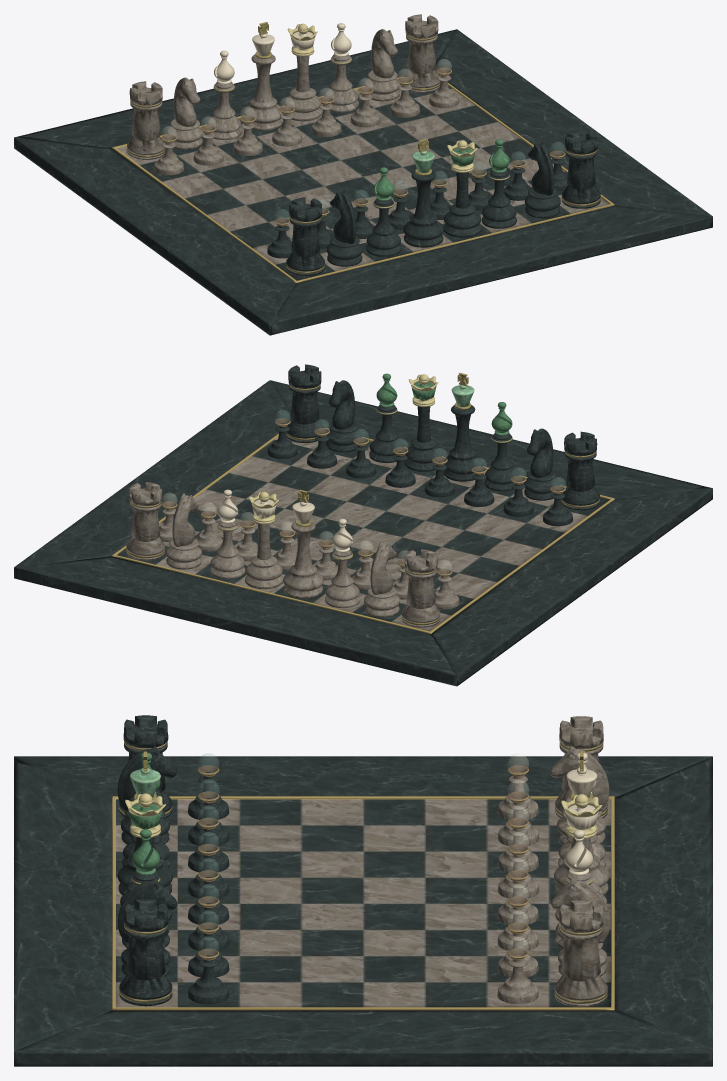
Rendered from chess-set.glb.
The picture shows the model from 3 angles, top to bottom: view 1: azimuth 30°, elevation 25°; view 2: azimuth 150°, elevation 25°; view 3: azimuth 270°, elevation 25°; orthographic projection. The views are drawn at different scales.
Visible parts, largest first — view 1: Chessboard, Pawn_Body_Shared (×14), Castle_B2, Castle_B1, Castle_W2, King_B, Castle_W1, Queen_B, King_W, Queen_W, Knight_B1, Knight_B2 (+6 smaller); view 2: Chessboard, Pawn_Body_Shared (×14), Castle_W2, Castle_W1, Castle_B1, King_W, Castle_B2, Queen_W, King_B, Queen_B, Knight_W1, Knight_W2 (+6 smaller); view 3: Chessboard, Pawn_Body_Shared (×16), Castle_B2, Castle_W1, Castle_B1, Castle_W2, Knight_B1, Knight_W2, King_W, King_B, Queen_B, Queen_W (+6 smaller).
Boxes of the visible parts, left/top/right/bottom form: Chessboard: left=14, top=29, right=712, bottom=335; Pawn_Body_Shared (×14): left=154, top=67, right=531, bottom=258; Castle_B2: left=562, top=130, right=600, bottom=208; Castle_B1: left=286, top=197, right=324, bottom=275; Castle_W2: left=127, top=81, right=165, bottom=159; King_B: left=403, top=139, right=443, bottom=247; Castle_W1: left=403, top=14, right=440, bottom=92; Queen_B: left=443, top=140, right=481, bottom=237; King_W: left=243, top=22, right=283, bottom=130; Queen_W: left=284, top=23, right=322, bottom=121; Knight_B1: left=326, top=190, right=362, bottom=266; Knight_B2: left=524, top=142, right=560, bottom=218; Chessboard: left=14, top=380, right=712, bottom=686; Pawn_Body_Shared (×14): left=195, top=418, right=573, bottom=609; Castle_W2: left=401, top=549, right=440, bottom=627; Castle_W1: left=126, top=482, right=165, bottom=560; Castle_B1: left=561, top=431, right=599, bottom=510; King_W: left=283, top=489, right=323, bottom=598; Castle_B2: left=286, top=364, right=323, bottom=442; Queen_W: left=244, top=491, right=283, bottom=588; King_B: left=443, top=373, right=483, bottom=481; Queen_B: left=404, top=374, right=442, bottom=471; Knight_W1: left=166, top=493, right=201, bottom=569; Knight_W2: left=364, top=541, right=399, bottom=617; Chessboard: left=14, top=756, right=712, bottom=1066; Pawn_Body_Shared (×16): left=187, top=765, right=539, bottom=1004; Castle_B2: left=119, top=899, right=172, bottom=1006; Castle_W1: left=554, top=900, right=607, bottom=1006; Castle_B1: left=119, top=715, right=172, bottom=817; Castle_W2: left=555, top=716, right=607, bottom=818; Knight_B1: left=117, top=746, right=177, bottom=844; Knight_W2: left=550, top=746, right=609, bottom=844; King_W: left=554, top=751, right=609, bottom=895; King_B: left=117, top=751, right=173, bottom=895; Queen_B: left=120, top=793, right=171, bottom=920; Queen_W: left=555, top=794, right=607, bottom=921.
Size of the model in its own units: 0.7054 by 0.169 by 0.7054.
15 materials, 13 textured.
